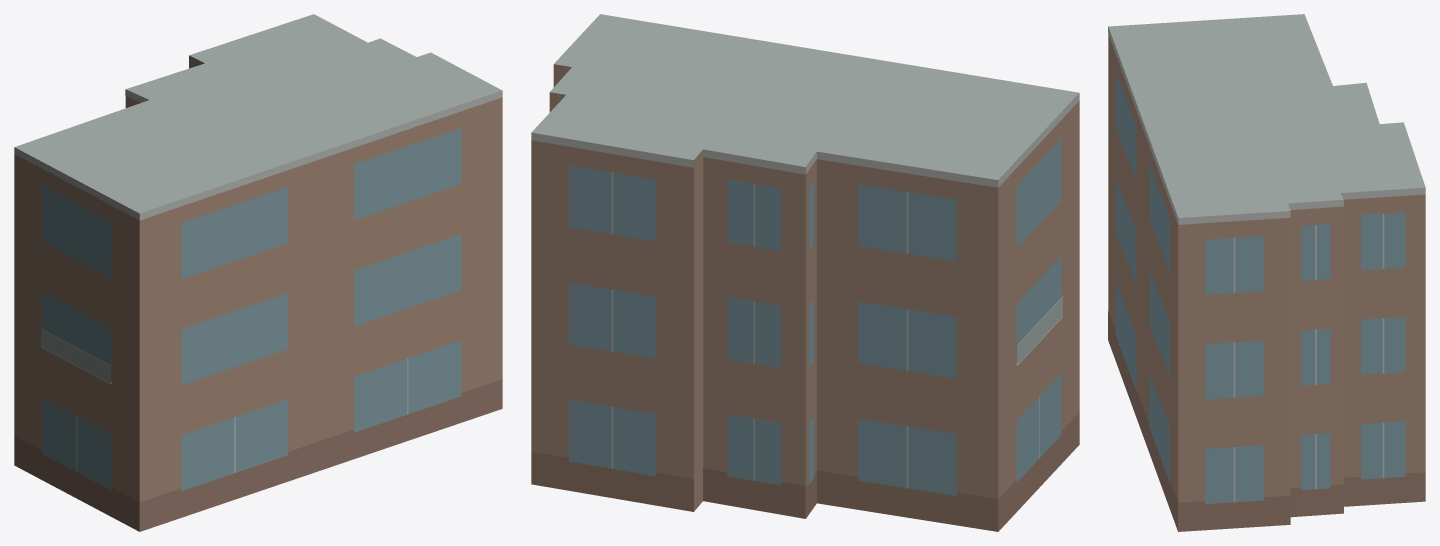
File: survey-upis-32835773.glb
The picture shows the model from 3 angles, left to right: view 1: azimuth 30°, elevation 25°; view 2: azimuth 150°, elevation 25°; view 3: azimuth 270°, elevation 25°; orthographic projection. The views are drawn at different scales.
Parts seen in each view (by area): view 1: survey-upis-32835773.tmp; view 2: survey-upis-32835773.tmp; view 3: survey-upis-32835773.tmp.
Boxes of the visible parts, bbox=[...] form: survey-upis-32835773.tmp: bbox=[14, 14, 502, 531]; survey-upis-32835773.tmp: bbox=[531, 14, 1079, 531]; survey-upis-32835773.tmp: bbox=[1108, 14, 1425, 531].
Size of the model in its own units: 15.77 by 11.3 by 10.37.
